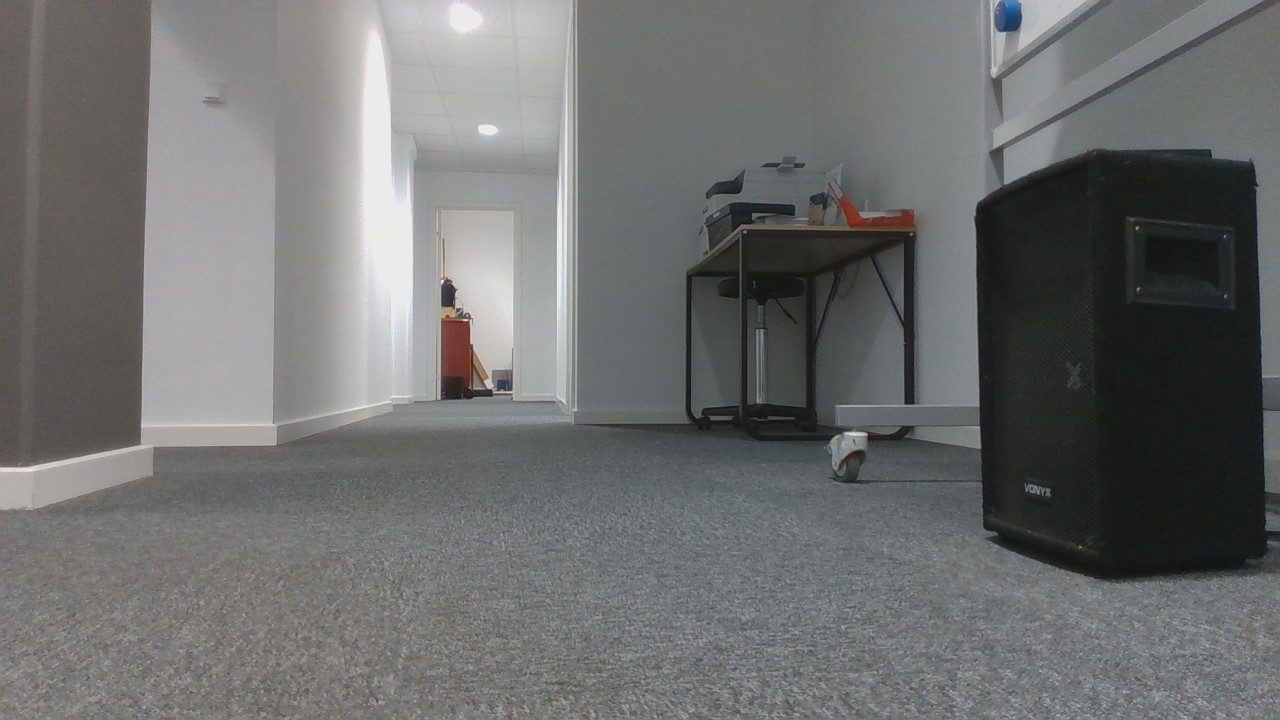alfa: (991, 1, 1024, 33)
